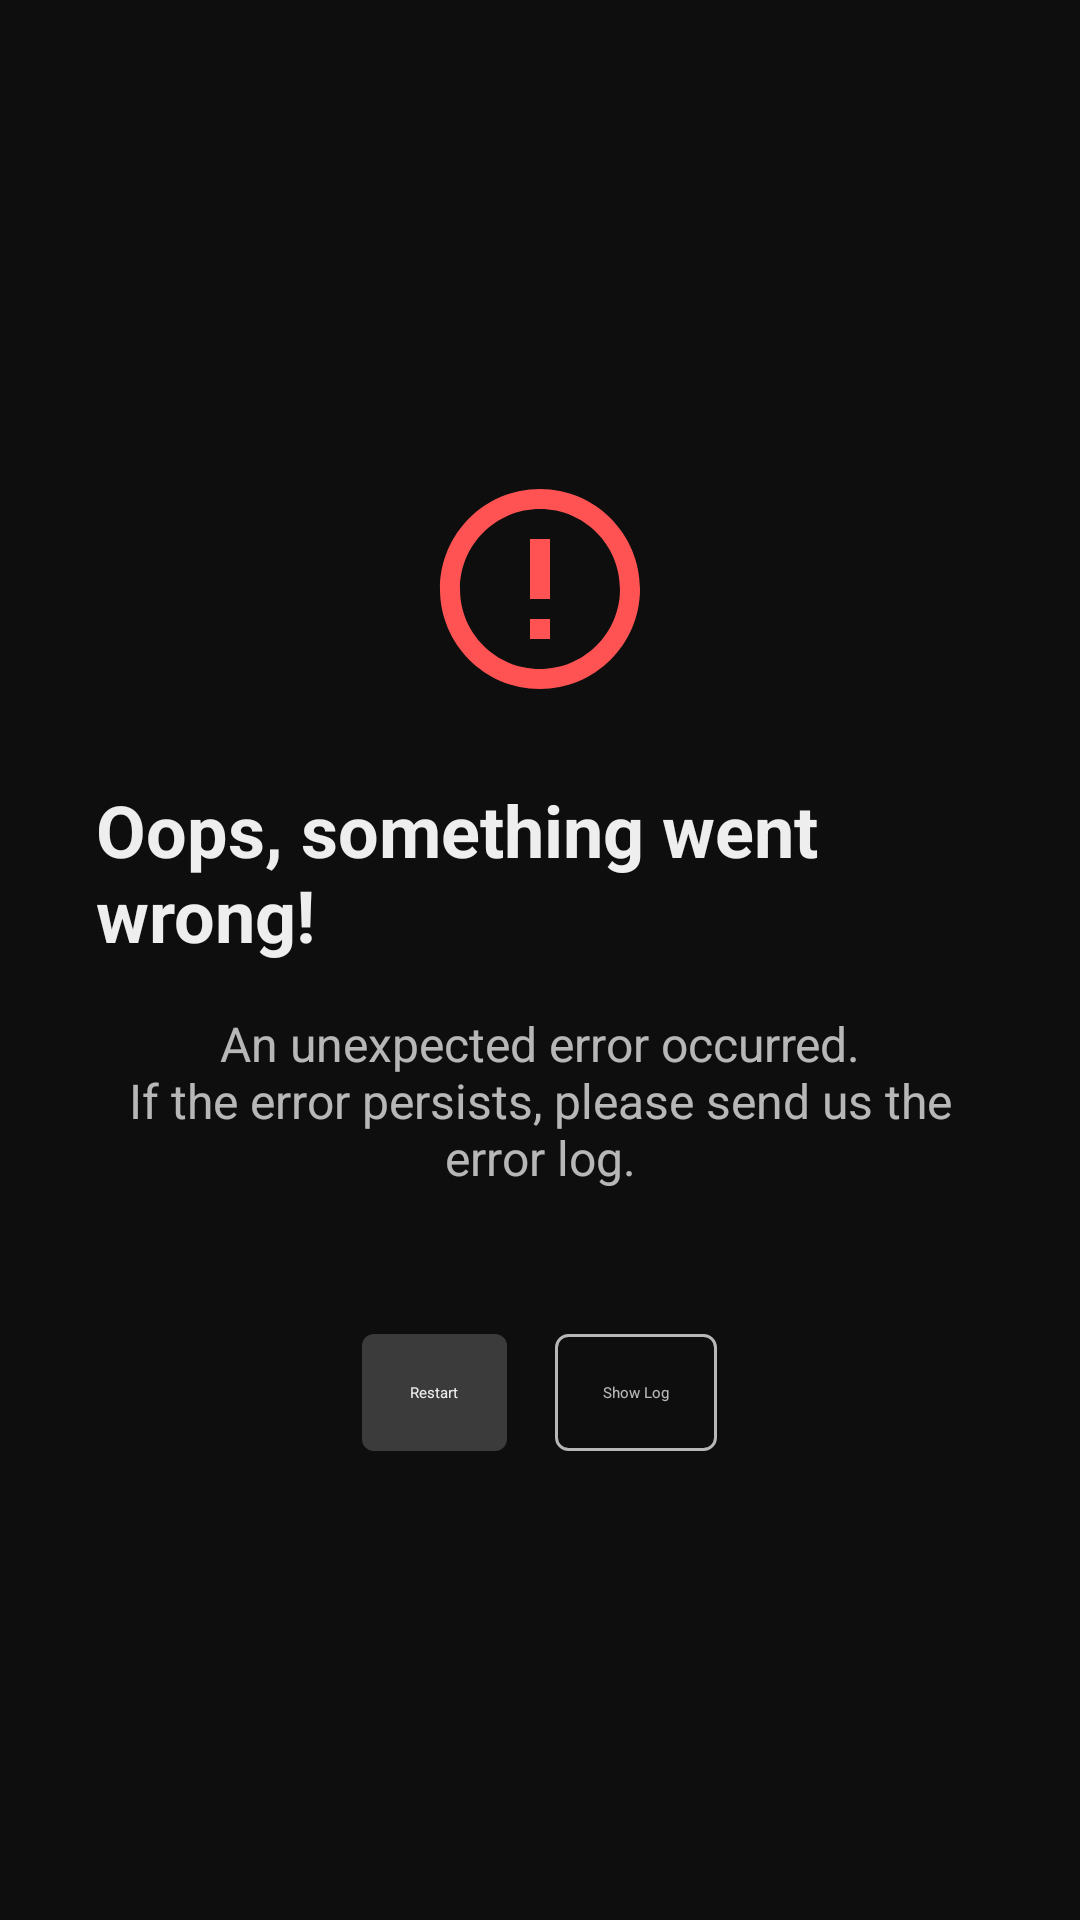

Named icons in this screenshot (1080 x 1920) and their bounding boxes, box=[x1, y1, x2, y2]:
Error: box=[440, 489, 640, 689]
